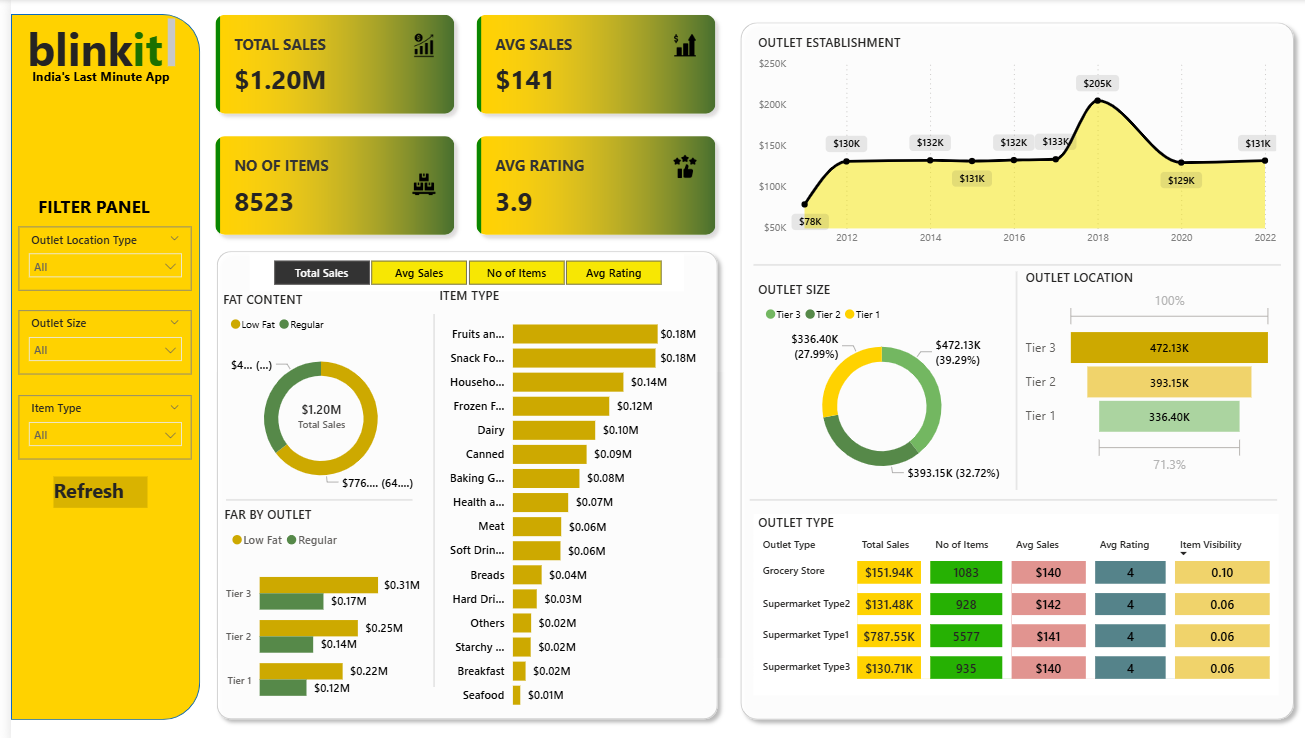

What the dashboard file says about the page in this screenshot:
{"tool":"powerbi","page":{"name":"Page 1","canvas":[1400,800],"ordinal":0},"visuals":[{"type":"shape","box":[0,15.7,202.9,757.1],"z":0},{"type":"textbox","box":[12.1,16.1,168.9,67],"z":1000},{"type":"textbox","box":[12.1,68.4,168.9,30.8],"z":2000},{"type":"cardVisual","fields":{"Data":["BlinkIT Grocery Data.Total Sales","BlinkIT Grocery Data.Avg Sales","BlinkIT Grocery Data.No of Items","BlinkIT Grocery Data.Avg Rating"]},"box":[202.9,0,570,270],"z":3000},{"type":"shape","box":[211.4,261.4,555,520],"z":4000},{"type":"donutChart","title":"FAT CONTENT","fields":{"Y":["BlinkIT Grocery Data.Total Sales"],"Category":["BlinkIT Grocery Data.Item Fat Content"]},"box":[222.9,312.9,220,230],"z":5000},{"type":"slicer","fields":{"Values":["Metrics.Metrics"]},"box":[255.7,272.9,465.7,40],"z":6000},{"type":"cardVisual","fields":{"Data":["BlinkIT Grocery Data.Total Sales"]},"box":[285.7,414.3,95.7,51.4],"z":7000},{"type":"clusteredBarChart","title":"FAR BY OUTLET","fields":{"Y":["BlinkIT Grocery Data.Total Sales"],"Category":["BlinkIT Grocery Data.Outlet Location Type"],"Series":["BlinkIT Grocery Data.Item Fat Content"]},"box":[224.3,542.9,220,230],"z":8000},{"type":"shape","box":[230,521.4,200,31.4],"z":9000},{"type":"shape","box":[444.3,337.1,20,400],"z":10000},{"type":"barChart","title":"ITEM TYPE","fields":{"Y":["BlinkIT Grocery Data.Total Sales"],"Category":["BlinkIT Grocery Data.Item Type"]},"box":[454.3,308.6,285.7,464.3],"z":11000},{"type":"shape","box":[772.9,15.7,611.4,765.7],"z":12000},{"type":"lineChart","title":"OUTLET ESTABLISHMENT","fields":{"Category":["BlinkIT Grocery Data.Outlet Establishment Year"],"Y":["BlinkIT Grocery Data.Total Sales"]},"box":[795.7,37.1,565.7,235.7],"z":13000},{"type":"donutChart","title":"OUTLET SIZE","fields":{"Category":["BlinkIT Grocery Data.Outlet Location Type"],"Y":["BlinkIT Grocery Data.Total Sales"]},"box":[795.7,301.4,275.7,225.7],"z":14000},{"type":"shape","box":[795.7,270,565.7,31.4],"z":15000},{"type":"shape","box":[1068.6,292.9,20,234.3],"z":16000},{"type":"funnel","title":"OUTLET LOCATION","fields":{"Y":["Sum(BlinkIT Grocery Data.Sales)"],"Category":["BlinkIT Grocery Data.Outlet Location Type"]},"box":[1082.9,290,275,225],"z":17000},{"type":"shape","box":[792.9,521.4,565.7,31.4],"z":18000},{"type":"pivotTable","title":"OUTLET TYPE","fields":{"Rows":["BlinkIT Grocery Data.Outlet Type"],"Values":["BlinkIT Grocery Data.Total Sales","BlinkIT Grocery Data.No of Items","BlinkIT Grocery Data.Avg Sales","BlinkIT Grocery Data.Avg Rating","Avg(BlinkIT Grocery Data.Item Visibility)"]},"box":[795.7,552.9,562.9,194.3],"z":19000},{"type":"slicer","fields":{"Values":["BlinkIT Grocery Data.Outlet Location Type"]},"box":[8.6,244.3,185.7,68.6],"z":20000},{"type":"slicer","fields":{"Values":["BlinkIT Grocery Data.Outlet Size"]},"box":[8.6,334.3,185.7,68.6],"z":21000},{"type":"slicer","fields":{"Values":["BlinkIT Grocery Data.Item Type"]},"box":[8.6,424.3,185.7,68.6],"z":22000},{"type":"textbox","box":[24.3,205.7,155.7,55.7],"z":23000},{"type":"actionButton","title":"Refresh","box":[45.6,512.1,100.5,40.2],"z":23001}]}

Visuals, with their boxes in screenshot pixels (x1, y1, x2, y2), scaled from the page's 1400x800 canvas onto the 1305x738 screenshot:
shape: {"left": 0, "top": 14, "right": 189, "bottom": 713}
textbox: {"left": 11, "top": 15, "right": 169, "bottom": 77}
textbox: {"left": 11, "top": 63, "right": 169, "bottom": 92}
cardVisual - BlinkIT Grocery Data.Total Sales x BlinkIT Grocery Data.Avg Sales: {"left": 189, "top": 0, "right": 720, "bottom": 249}
shape: {"left": 197, "top": 241, "right": 714, "bottom": 721}
"FAT CONTENT" donutChart: {"left": 208, "top": 289, "right": 413, "bottom": 501}
slicer - Metrics.Metrics: {"left": 238, "top": 252, "right": 672, "bottom": 289}
cardVisual - BlinkIT Grocery Data.Total Sales: {"left": 266, "top": 382, "right": 356, "bottom": 430}
"FAR BY OUTLET" clusteredBarChart: {"left": 209, "top": 501, "right": 414, "bottom": 713}
shape: {"left": 214, "top": 481, "right": 401, "bottom": 510}
shape: {"left": 414, "top": 311, "right": 433, "bottom": 680}
"ITEM TYPE" barChart: {"left": 423, "top": 285, "right": 690, "bottom": 713}
shape: {"left": 720, "top": 14, "right": 1290, "bottom": 721}
"OUTLET ESTABLISHMENT" lineChart: {"left": 742, "top": 34, "right": 1269, "bottom": 252}
"OUTLET SIZE" donutChart: {"left": 742, "top": 278, "right": 999, "bottom": 486}
shape: {"left": 742, "top": 249, "right": 1269, "bottom": 278}
shape: {"left": 996, "top": 270, "right": 1015, "bottom": 486}
"OUTLET LOCATION" funnel: {"left": 1009, "top": 268, "right": 1266, "bottom": 475}
shape: {"left": 739, "top": 481, "right": 1266, "bottom": 510}
"OUTLET TYPE" pivotTable: {"left": 742, "top": 510, "right": 1266, "bottom": 689}
slicer - BlinkIT Grocery Data.Outlet Location Type: {"left": 8, "top": 225, "right": 181, "bottom": 289}
slicer - BlinkIT Grocery Data.Outlet Size: {"left": 8, "top": 308, "right": 181, "bottom": 372}
slicer - BlinkIT Grocery Data.Item Type: {"left": 8, "top": 391, "right": 181, "bottom": 455}
textbox: {"left": 23, "top": 190, "right": 168, "bottom": 241}
"Refresh" actionButton: {"left": 43, "top": 472, "right": 136, "bottom": 509}
